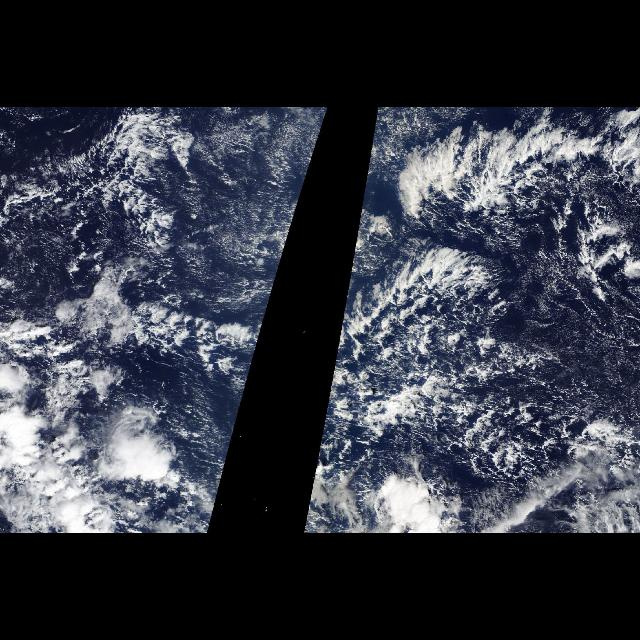Gravel: (332, 124, 628, 500)
Sugar: (524, 260, 634, 420), (204, 122, 310, 258)
